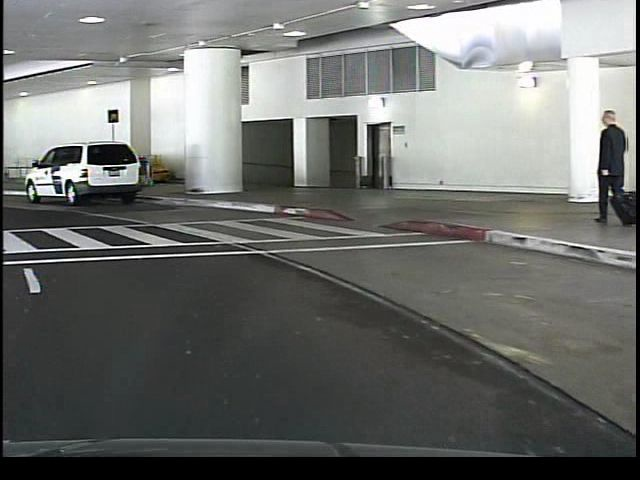person: (585, 105, 623, 227)
